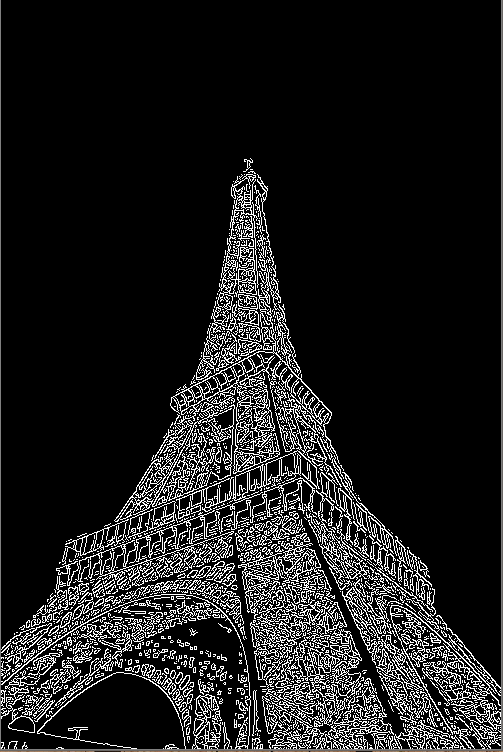eiffel tower: (38, 98, 491, 742)
